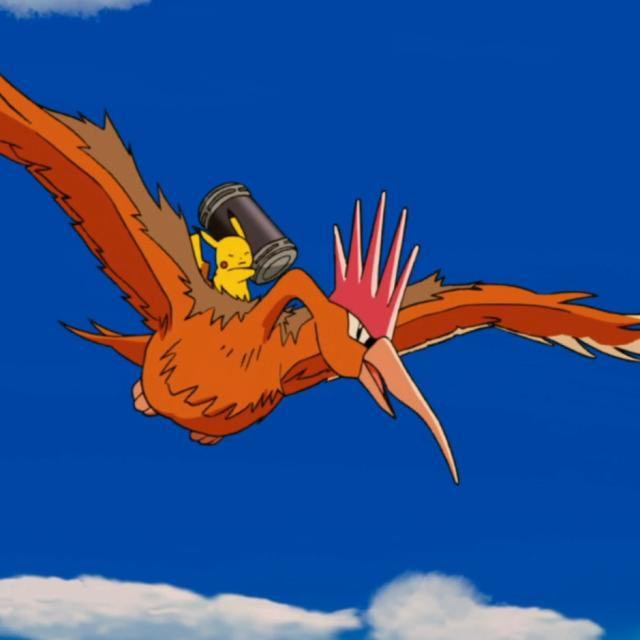Fearow: (0, 69, 640, 490)
